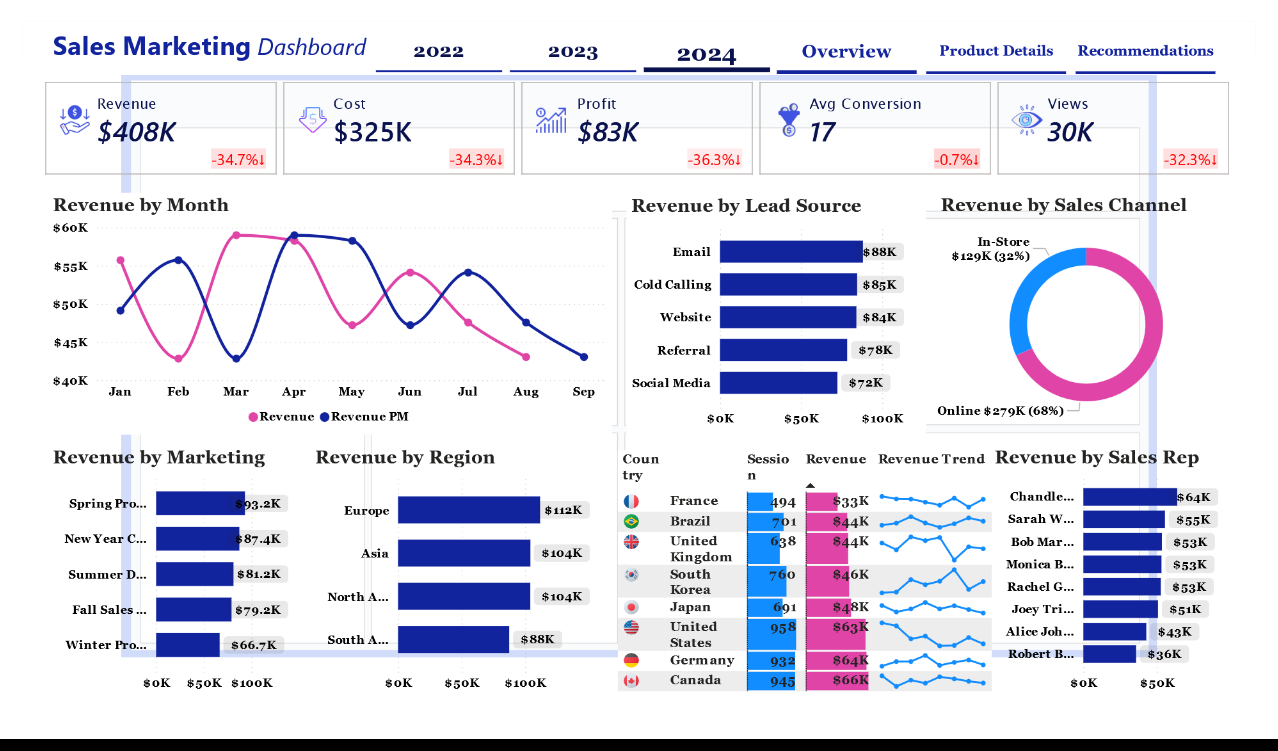

This screenshot's page, from the dashboard's own definition file:
{"tool":"powerbi","page":{"name":"Overview","canvas":[1280,720],"ordinal":0},"visuals":[{"type":"advancedSlicerVisual","fields":{"Values":["Calender.Year"]},"box":[362.1,0,420.5,58.4],"z":0},{"type":"cardVisual","fields":{"Data":["All Measure.Revenue","All Measure.Cost","All Measure.Profit","All Measure.Avg Conversion","All Measure.Views"]},"box":[19.1,58.4,1241.3,106],"z":1000},{"type":"lineChart","title":" Revenue  by Month","fields":{"Y":["All Measure.Revenue","All Measure.Revenue PM"],"Category":["Calender.Month"]},"box":[27.4,177.5,584.9,251.4],"z":2000},{"type":"clusteredBarChart","fields":{"Y":["All Measure.Revenue"],"Category":["dimlead.Lead Source"]},"box":[626.6,178.7,310.9,250.2],"z":3000},{"type":"donutChart","fields":{"Category":["dimchannel.Sales Channel"],"Y":["All Measure.Revenue"]},"box":[948.3,177.5,312.1,251.4],"z":4000},{"type":"clusteredBarChart","title":"Revenue by Marketing","fields":{"Y":["All Measure.Revenue"],"Category":["dimmarketing.Marketing Campaign"]},"box":[27.4,439.6,271.6,263.3],"z":5000},{"type":"clusteredBarChart","fields":{"Y":["All Measure.Revenue"],"Category":["dimcountry.Region"]},"box":[299,439.6,313.3,263.3],"z":6000},{"type":"tableEx","fields":{"Values":["dimcountry.flag","dimcountry.Country","All Measure.Session","All Measure.Revenue","SparklineData(All Measure.Revenue_[Calender.Monthnum])"]},"box":[612.3,439.6,400.3,263.3],"z":7000},{"type":"clusteredBarChart","fields":{"Category":["dimsales.Sales Rep"],"Y":["All Measure.Revenue"]},"box":[1004.3,439.6,256.1,263.3],"z":8000},{"type":"textbox","box":[27.4,0,345.5,64.3],"z":9000},{"type":"pageNavigator","box":[782.7,4.8,457.5,50],"z":10000},{"type":"actionButton","box":[1090,13.1,150.1,41.7],"z":11000},{"type":"actionButton","box":[937.5,4.8,140.6,50],"z":12000}]}

Visuals, with their boxes on the page's 1280x720 design canvas (x1, y1, x2, y2). These are canvas units, not pixel positions in the 1278x751 screenshot, which may show the page scaled, cropped or inside an application window:
advancedSlicerVisual - Calender.Year: bbox=(362, 0, 783, 58)
cardVisual - All Measure.Revenue x All Measure.Cost: bbox=(19, 58, 1260, 164)
" Revenue  by Month" lineChart: bbox=(27, 178, 612, 429)
clusteredBarChart - All Measure.Revenue x dimlead.Lead Source: bbox=(627, 179, 938, 429)
donutChart - dimchannel.Sales Channel x All Measure.Revenue: bbox=(948, 178, 1260, 429)
"Revenue by Marketing" clusteredBarChart: bbox=(27, 440, 299, 703)
clusteredBarChart - All Measure.Revenue x dimcountry.Region: bbox=(299, 440, 612, 703)
tableEx - dimcountry.flag x dimcountry.Country: bbox=(612, 440, 1013, 703)
clusteredBarChart - dimsales.Sales Rep x All Measure.Revenue: bbox=(1004, 440, 1260, 703)
textbox: bbox=(27, 0, 373, 64)
pageNavigator: bbox=(783, 5, 1240, 55)
actionButton: bbox=(1090, 13, 1240, 55)
actionButton: bbox=(938, 5, 1078, 55)
